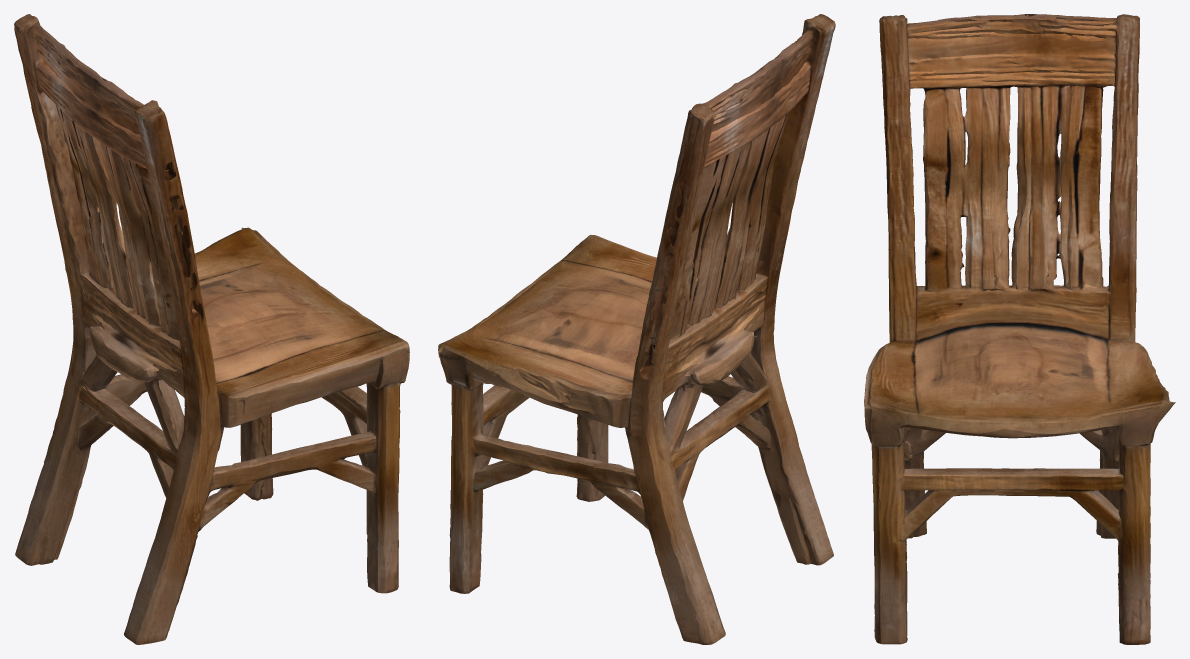
The picture shows the model from 3 angles, left to right: view 1: azimuth 30°, elevation 25°; view 2: azimuth 150°, elevation 25°; view 3: azimuth 270°, elevation 25°; orthographic projection. The views are drawn at different scales.
Visible parts, largest first — view 1: world; view 2: world; view 3: world.
Part boxes in pixels (x1,y1,x2,y2): world: [14, 14, 409, 644]; world: [438, 14, 835, 644]; world: [864, 14, 1175, 644].
Bounding box in the file's own units: 0.5273 × 1 × 0.5473.
1 material, 1 textured.
